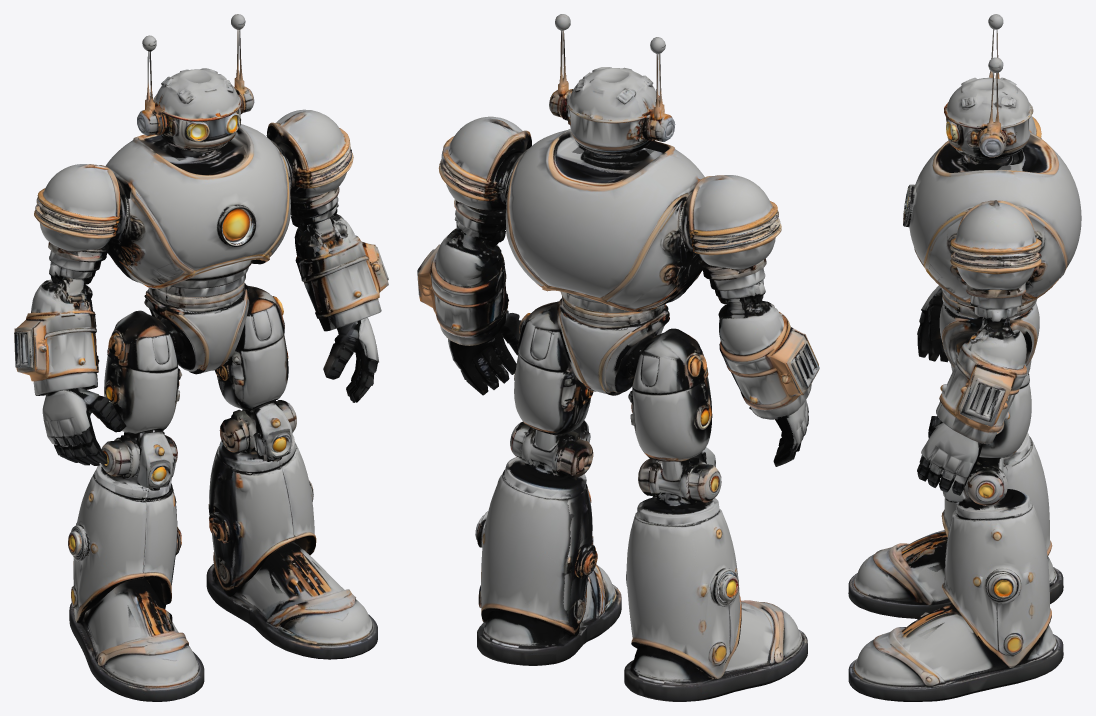
File: atom.glb
3 renders of one model, left to right at view 1: azimuth 30°, elevation 25°; view 2: azimuth 150°, elevation 25°; view 3: azimuth 270°, elevation 25°, orthographic. The views are drawn at different scales.
Parts seen in each view (by area): view 1: Object_08, Object_05, Object_10, Object_18, Object_09, Object_13, Object_22, Object_04, Object_21, Object_12, Object_06, Object_03 (+7 smaller); view 2: Object_08, Object_10, Object_09, Object_05, Object_13, Object_04, Object_22, Object_21, Object_06, Object_12, Object_18, Object_03 (+8 smaller); view 3: Object_08, Object_05, Object_10, Object_18, Object_13, Object_21, Object_01, Object_09, Object_03, Object_06, Object_20, Object_02 (+2 smaller).
Part boxes in pixels (x1,y1,x2,y2): Object_08: (105, 124, 292, 288); Object_05: (266, 109, 388, 334); Object_10: (208, 434, 316, 596); Object_18: (206, 541, 377, 659); Object_09: (71, 463, 181, 622); Object_13: (69, 578, 204, 701); Object_22: (14, 277, 99, 395); Object_04: (104, 310, 181, 434); Object_21: (137, 51, 241, 152); Object_12: (34, 164, 121, 252); Object_06: (214, 285, 288, 421); Object_03: (144, 283, 249, 374); Object_08: (504, 129, 704, 311); Object_10: (475, 457, 597, 636); Object_09: (626, 497, 741, 678); Object_05: (417, 116, 531, 345); Object_13: (624, 600, 807, 701); Object_04: (628, 328, 712, 461); Object_22: (718, 297, 819, 419); Object_21: (567, 54, 675, 156); Object_06: (514, 301, 593, 450); Object_12: (688, 175, 781, 269); Object_18: (477, 564, 621, 665); Object_03: (557, 298, 669, 395); Object_08: (903, 132, 1081, 304); Object_05: (936, 200, 1041, 444); Object_10: (942, 489, 1051, 667); Object_18: (848, 603, 1063, 701); Object_13: (848, 530, 1063, 618); Object_21: (944, 29, 1033, 160); Object_01: (917, 416, 982, 495); Object_09: (941, 432, 1052, 556); Object_03: (939, 303, 1039, 367); Object_06: (979, 363, 1031, 471); Object_20: (941, 457, 1007, 506); Object_02: (917, 285, 948, 362).
Bounding box in the file's own units: 0.629 × 1 × 0.349.
Materials: 24 (24 with a texture image).
